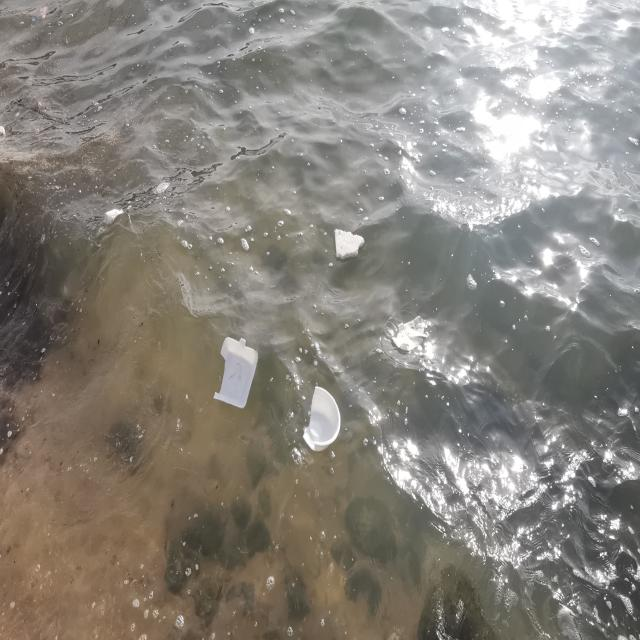foam: (212, 334, 260, 410), (302, 386, 341, 452), (392, 315, 426, 353), (334, 228, 366, 257)
plastic bottle: (103, 208, 124, 222)
unknow: (155, 179, 171, 191)
